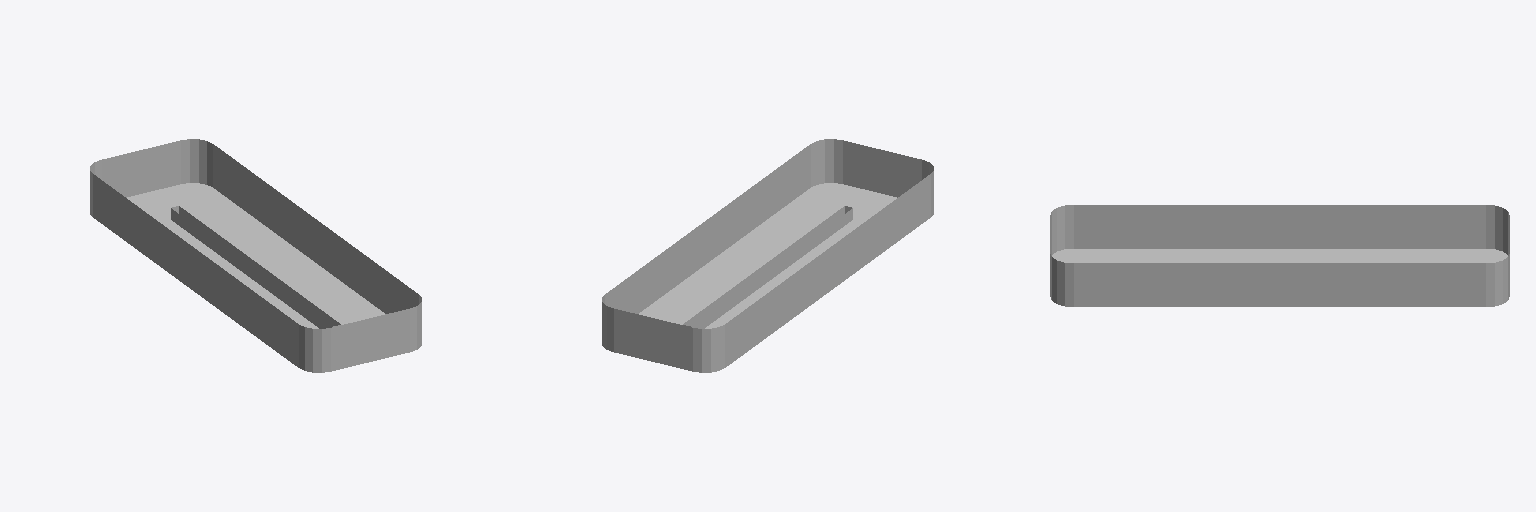
Rendered from STADIUM_COLLIDER.obj.
3 renders of one model, left to right at view 1: azimuth 30°, elevation 25°; view 2: azimuth 150°, elevation 25°; view 3: azimuth 270°, elevation 25°, orthographic.
Parts seen in each view (by area): view 1: COLLIDER; view 2: COLLIDER; view 3: COLLIDER.
Boxes of the visible parts, box(x1,y1,x2,y2) form: COLLIDER: box(90, 139, 421, 372); COLLIDER: box(602, 139, 933, 372); COLLIDER: box(1050, 205, 1509, 306).
Size of the model in its own units: 42.93 by 14.93 by 141.